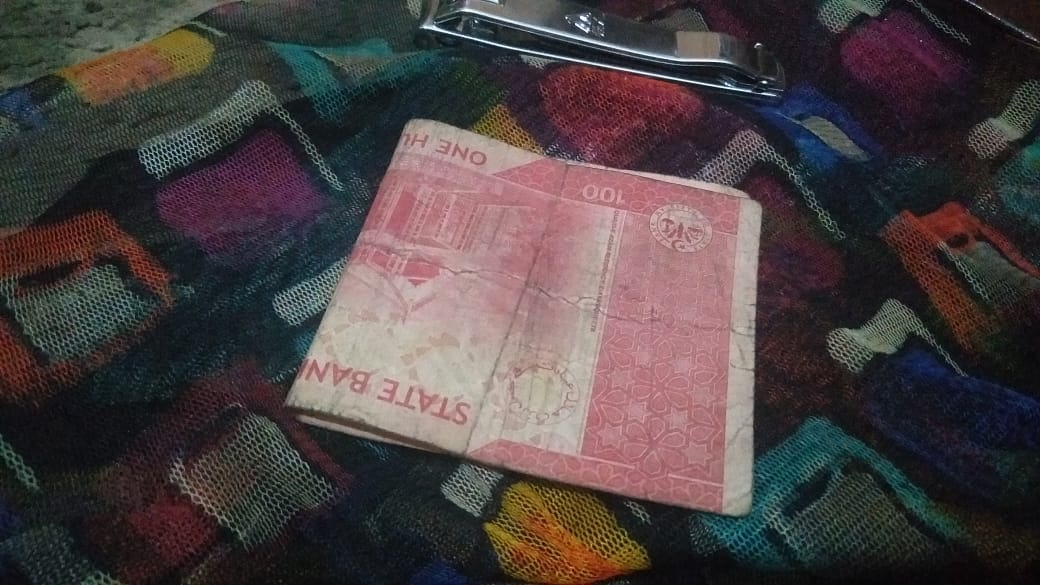100 rupee: (290, 115, 765, 520)
